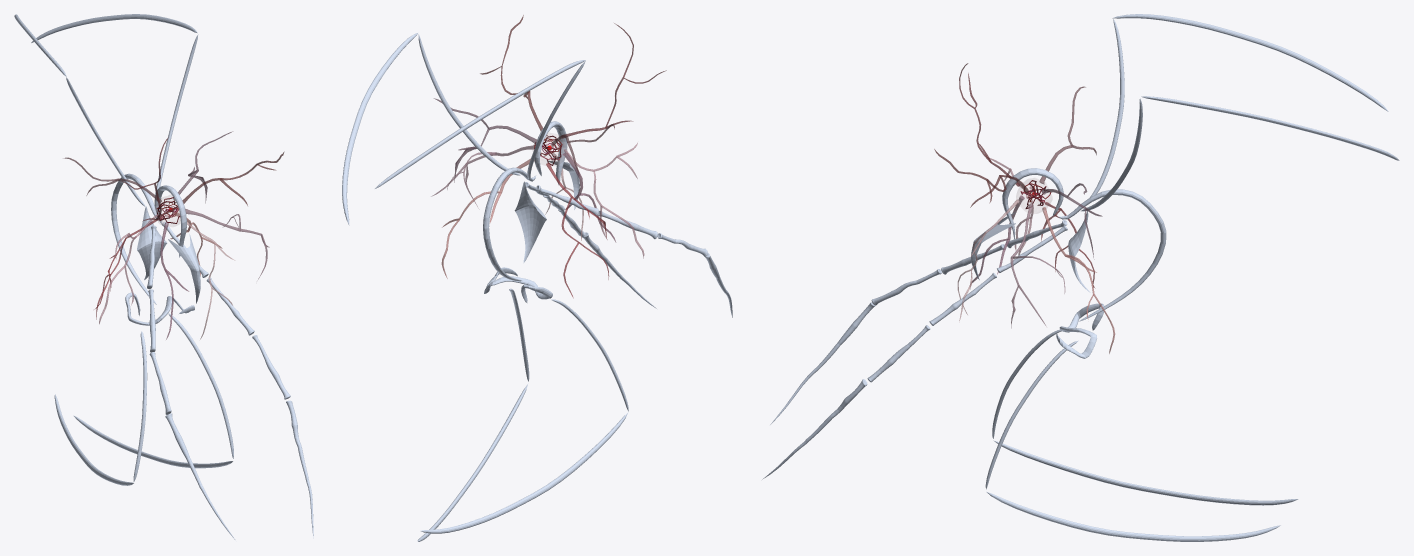
The model's file is esqueleto_neuro.glb.
3 views of the same model, side by side, from view 1: azimuth 30°, elevation 25°; view 2: azimuth 150°, elevation 25°; view 3: azimuth 270°, elevation 25° (orthographic). The views are drawn at different scales.
Parts seen in each view (by area): view 1: coluna, torax, antebraco_esquerdo.001, perna_esquerda, coxa_esquerda, braco_esquerdo, coxa_direita, perna_direita, bico, cabeca, osso8, osso7 (+10 smaller); view 2: perna_direita, antebraco_esquerdo.001, torax, antebraco_esquerdo, coluna, perna_esquerda, braco_esquerdo, bacia, cabeca, neuro5.001, neuro5, neuro4 (+5 smaller); view 3: perna_esquerda, perna_direita, antebraco_esquerdo, coluna, antebraco_esquerdo.001, bacia, braco_direito, cabeca.
Part boxes in pixels (bbox=[...]): coluna: bbox=[111, 173, 159, 304]; torax: bbox=[137, 206, 167, 279]; antebraco_esquerdo.001: bbox=[31, 14, 197, 42]; perna_esquerda: bbox=[73, 415, 232, 468]; coxa_esquerda: bbox=[168, 313, 233, 458]; braco_esquerdo: bbox=[155, 34, 198, 194]; coxa_direita: bbox=[133, 331, 147, 481]; perna_direita: bbox=[54, 394, 133, 485]; bico: bbox=[168, 234, 200, 303]; cabeca: bbox=[154, 185, 186, 257]; osso8: bbox=[165, 413, 235, 540]; osso7: bbox=[286, 400, 313, 537]; perna_direita: bbox=[420, 413, 627, 533]; antebraco_esquerdo.001: bbox=[342, 33, 417, 225]; torax: bbox=[514, 181, 546, 262]; antebraco_esquerdo: bbox=[375, 60, 585, 188]; coluna: bbox=[483, 167, 535, 281]; perna_esquerda: bbox=[417, 384, 527, 541]; braco_esquerdo: bbox=[418, 34, 520, 175]; bacia: bbox=[484, 267, 552, 302]; cabeca: bbox=[534, 121, 567, 184]; neuro5.001: bbox=[564, 142, 644, 258]; neuro5: bbox=[546, 163, 609, 298]; neuro4: bbox=[441, 158, 534, 278]; perna_esquerda: bbox=[986, 491, 1280, 541]; perna_direita: bbox=[993, 440, 1298, 505]; antebraco_esquerdo: bbox=[1112, 14, 1388, 111]; coluna: bbox=[1058, 189, 1166, 321]; antebraco_esquerdo.001: bbox=[1141, 96, 1399, 160]; bacia: bbox=[1056, 303, 1104, 358]; braco_direito: bbox=[1090, 19, 1124, 197]; cabeca: bbox=[1002, 168, 1063, 240].
Bounding box in the file's own units: 13.81 × 29.66 × 35.9.
